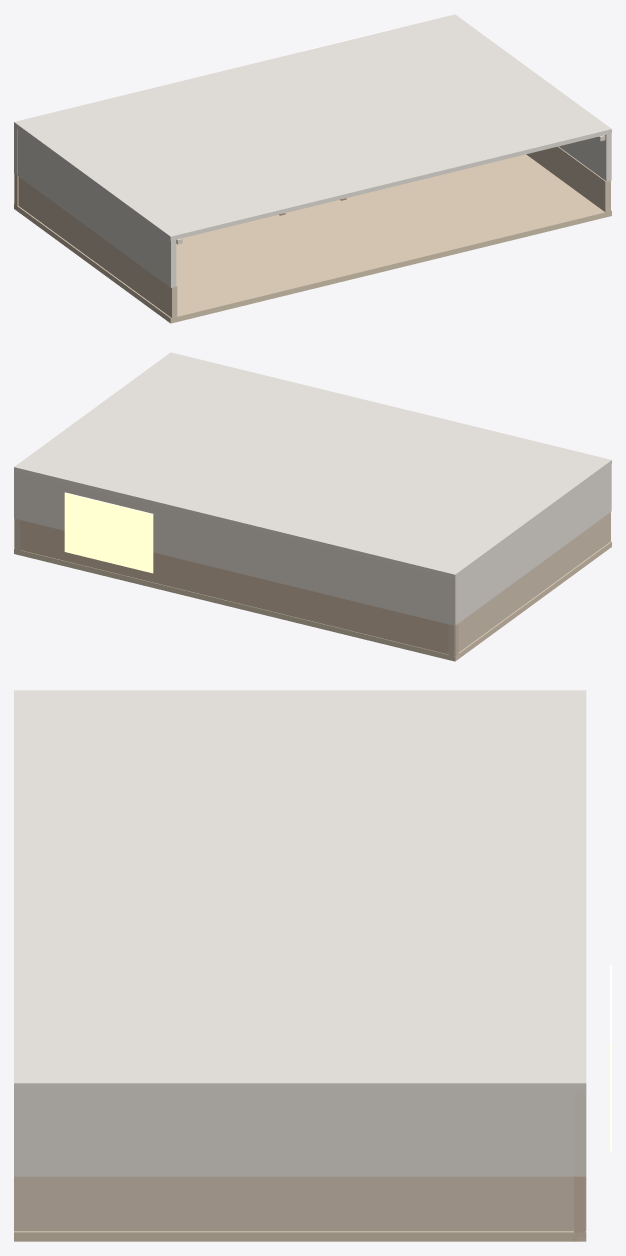
Rendered from warm-lounge-room.glb.
3 renders of one model, top to bottom at view 1: azimuth 30°, elevation 25°; view 2: azimuth 150°, elevation 25°; view 3: azimuth 270°, elevation 25°, orthographic. The views are drawn at different scales.
Parts seen in each view (by area): view 1: Ceiling, Floor, LeftWallUpper, LeftWallLower, RightWallLower, RightWallUpper; view 2: Ceiling, BackWallUpper, BackWallLower, LeftWallUpper, SunPanel, LeftWallLower, Floor; view 3: Ceiling, RightWallUpper, RightWallLower, Floor, BackWallUpper.
Part boxes in pixels (box(x1,y1,x2,y2)): Ceiling: box(14, 14, 611, 240); Floor: box(14, 154, 611, 323); LeftWallUpper: box(17, 129, 176, 287); LeftWallLower: box(18, 177, 177, 317); RightWallLower: box(526, 146, 610, 212); RightWallUpper: box(559, 133, 611, 181); Ceiling: box(14, 352, 611, 578); BackWallUpper: box(14, 471, 458, 625); BackWallLower: box(14, 518, 458, 658); LeftWallUpper: box(458, 465, 611, 623); SunPanel: box(64, 492, 153, 573); LeftWallLower: box(448, 512, 610, 655); Floor: box(14, 541, 611, 661); Ceiling: box(14, 690, 586, 1090); RightWallUpper: box(14, 1091, 574, 1176); RightWallLower: box(14, 1176, 586, 1231); Floor: box(14, 1231, 586, 1241); BackWallUpper: box(574, 1086, 586, 1176).
Size of the model in its own units: 19.5 by 3.67 by 12.54.
